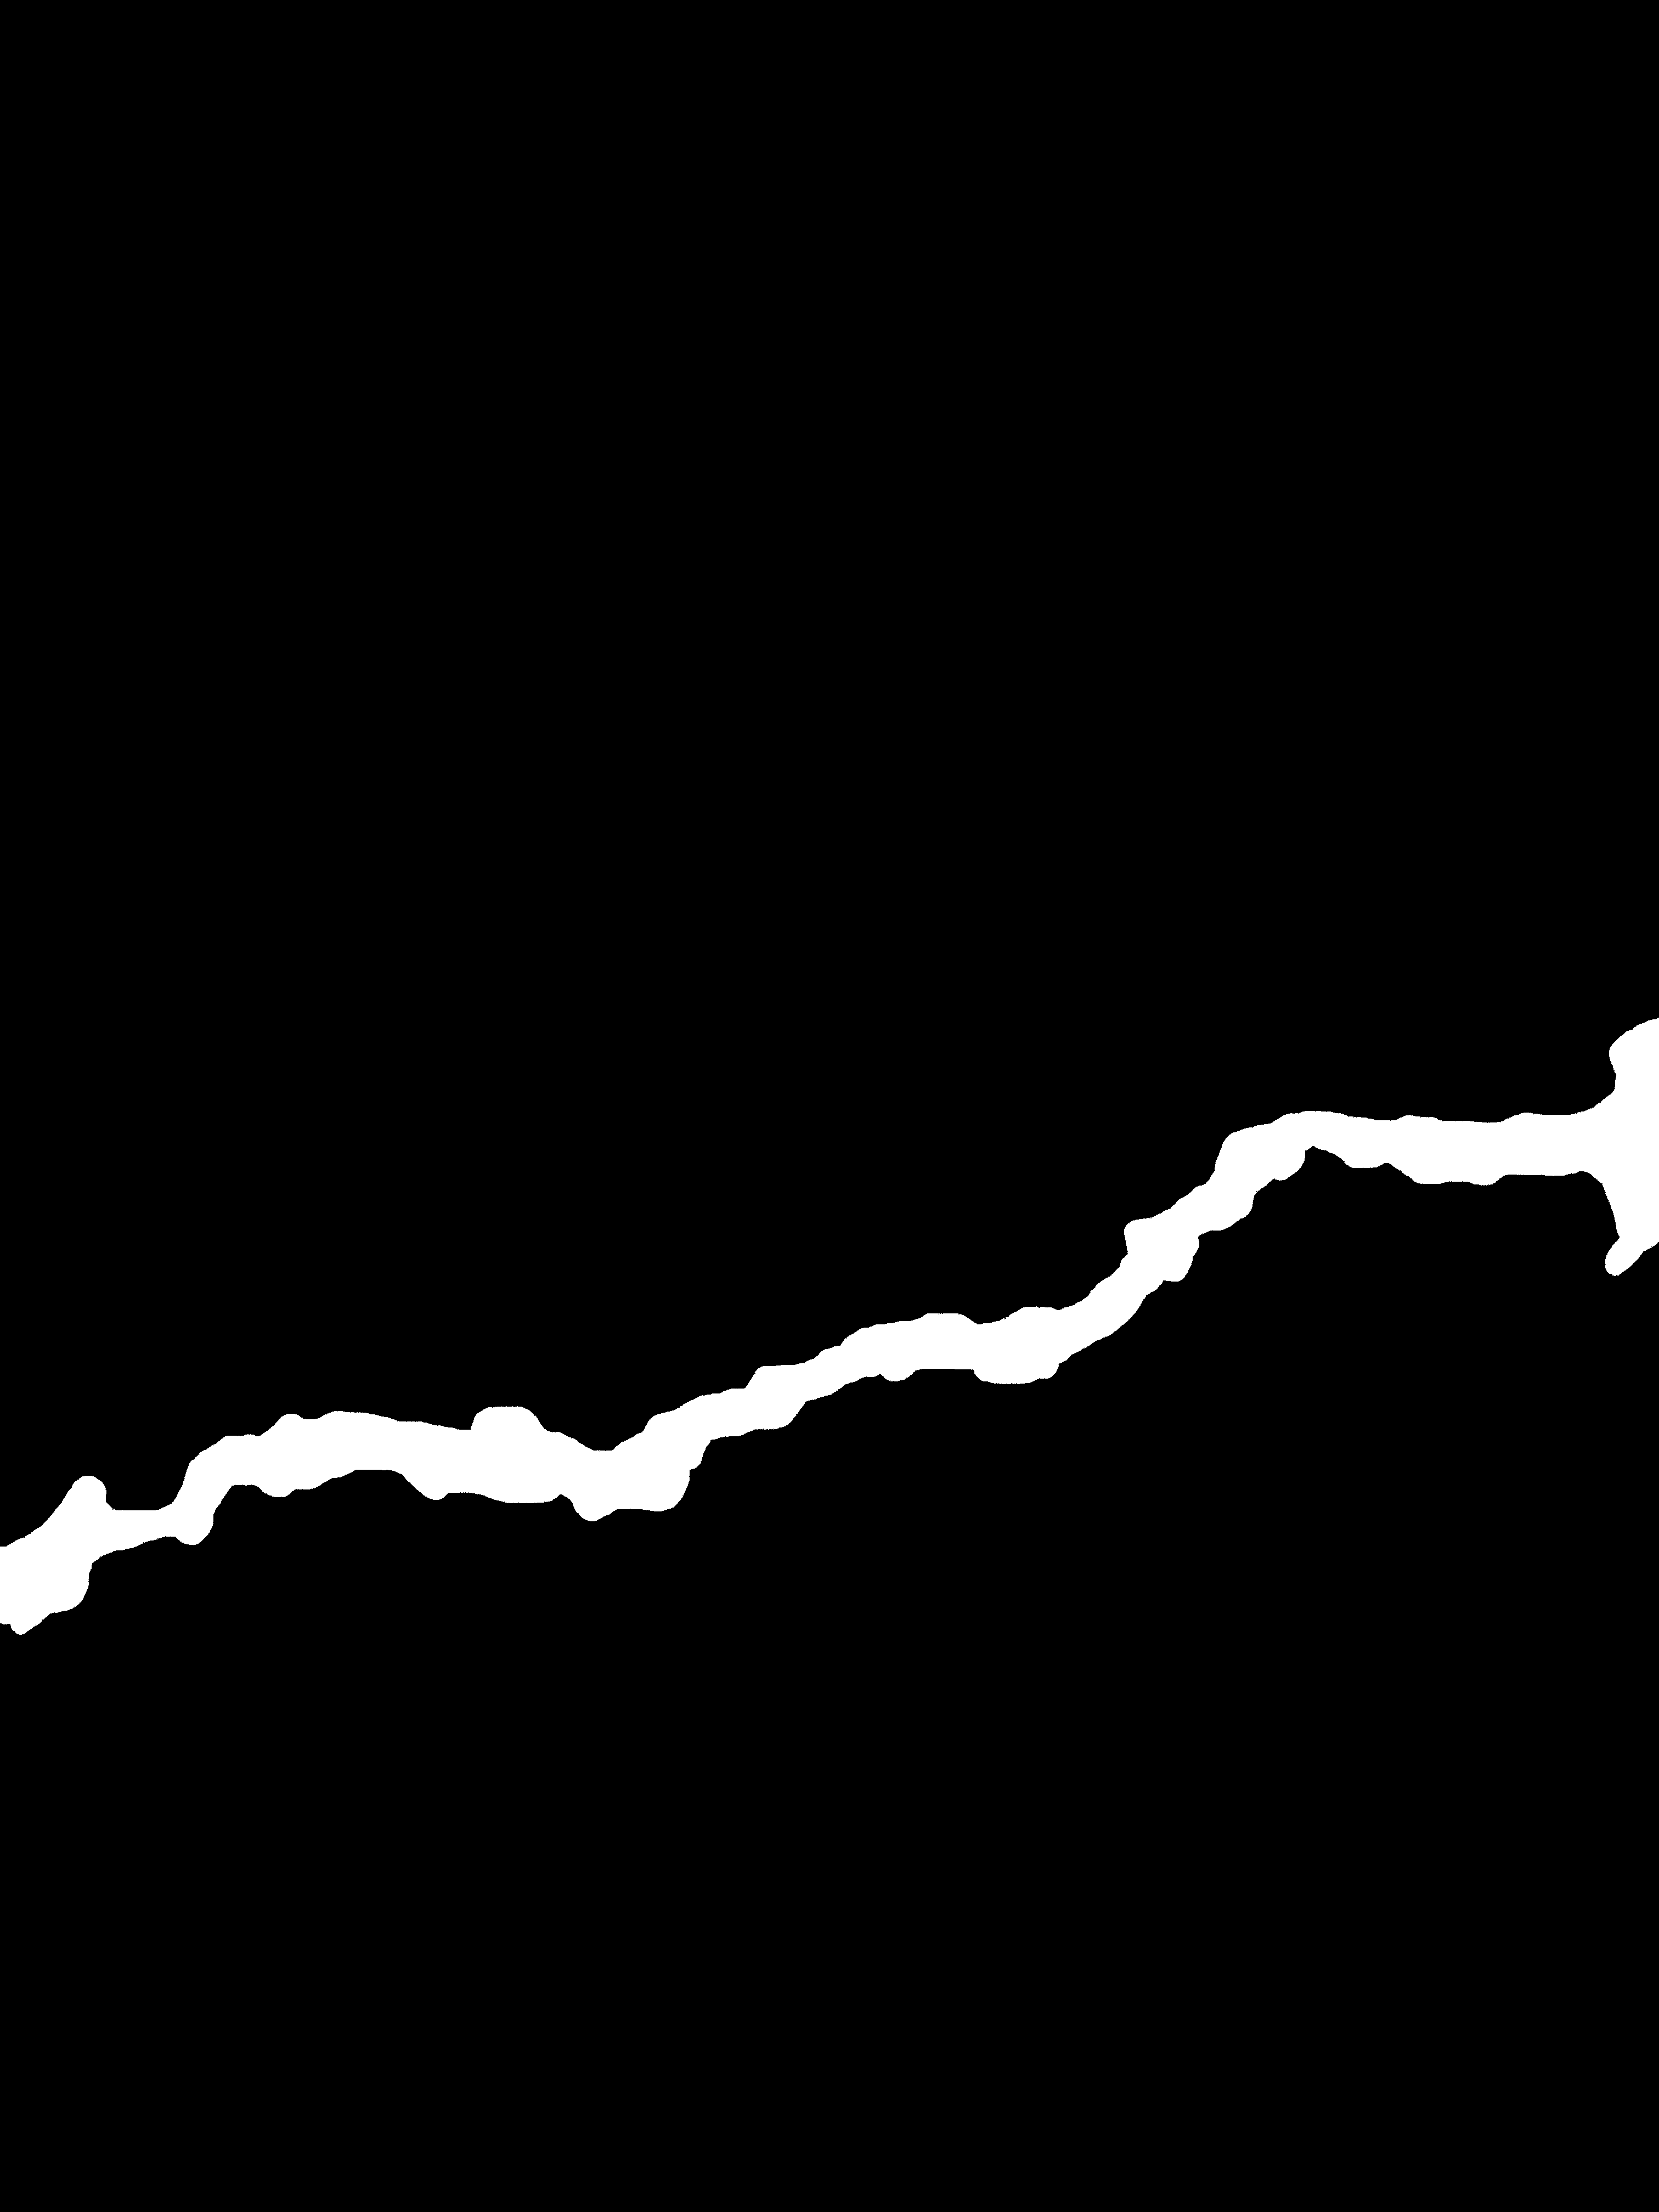Crack: (0, 995, 1659, 1648)
